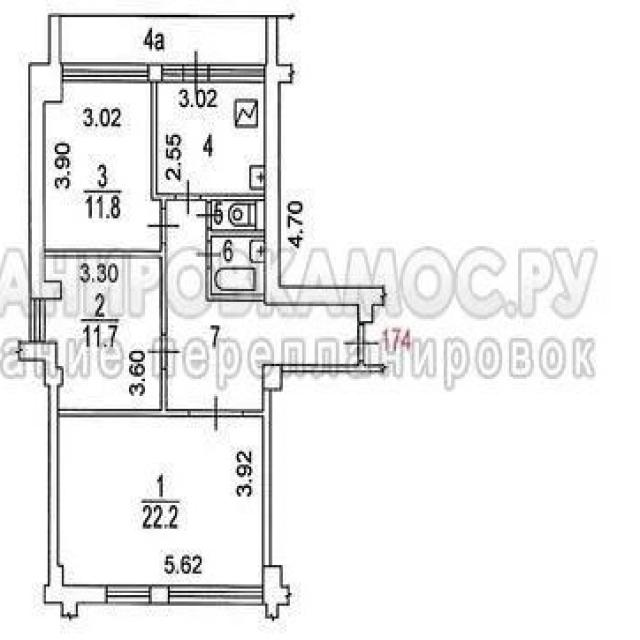Bathrooms: (212, 239, 264, 292), (213, 203, 264, 229)
Corridors: (168, 201, 357, 409), (62, 18, 266, 62)
Doors: (187, 395, 244, 435), (343, 323, 381, 363), (145, 207, 180, 244), (147, 334, 182, 370), (183, 50, 209, 94), (175, 178, 202, 217), (194, 240, 223, 269), (193, 202, 222, 228)
LBwalls: (264, 64, 388, 325), (14, 341, 106, 623), (28, 62, 65, 300), (262, 565, 293, 623), (262, 363, 283, 392), (150, 585, 168, 605), (148, 63, 161, 84)
Offices: (60, 417, 263, 586), (45, 84, 160, 249), (46, 260, 159, 409), (158, 84, 264, 193)
Walls: (44, 243, 168, 334), (60, 370, 189, 418), (243, 391, 273, 566), (150, 83, 176, 210), (205, 269, 265, 302), (49, 13, 296, 19), (282, 363, 388, 373), (204, 227, 264, 241), (265, 17, 280, 66), (47, 16, 61, 64), (201, 193, 266, 203)
Windows: (62, 62, 148, 84), (169, 585, 263, 605), (209, 64, 264, 83), (106, 585, 151, 605), (29, 300, 46, 342), (161, 63, 183, 83)
